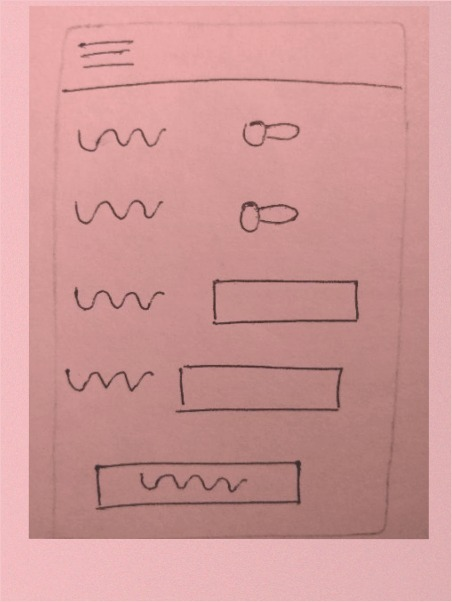switch: (222, 107, 316, 159), (226, 188, 310, 241)
text: (69, 186, 165, 233), (70, 115, 183, 154), (69, 276, 169, 320), (60, 355, 155, 398)
text_input: (171, 356, 350, 422), (202, 270, 367, 330)
